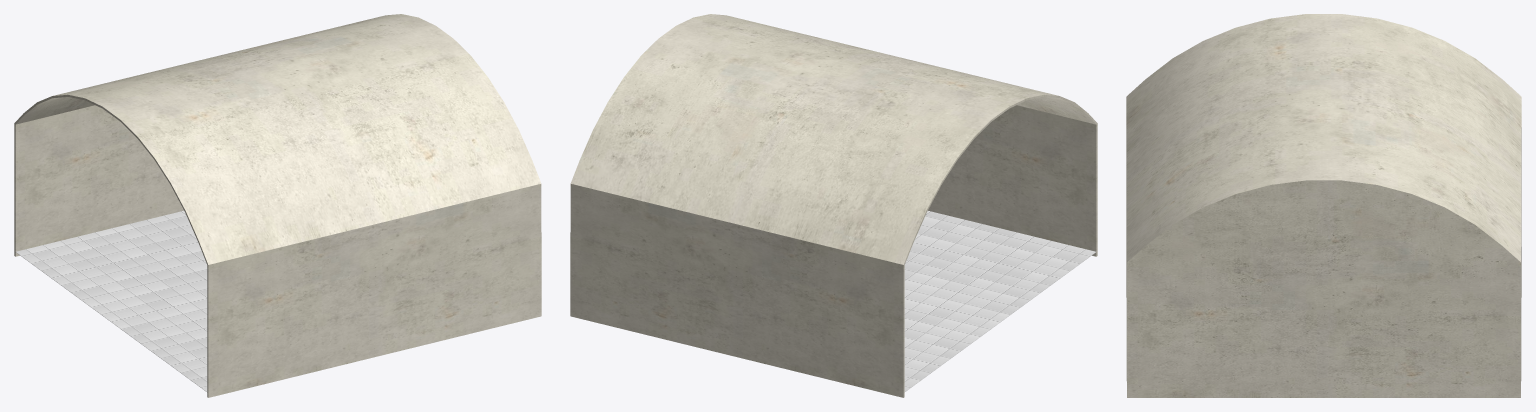
File: factory.fbx
The picture shows the model from 3 angles, left to right: view 1: azimuth 30°, elevation 25°; view 2: azimuth 150°, elevation 25°; view 3: azimuth 270°, elevation 25°; orthographic projection.
Visible parts, largest first — view 1: Plane.037, Plane.036; view 2: Plane.037, Plane.036; view 3: Plane.037.
Part boxes in pixels (bbox=[...]): Plane.037: bbox=[14, 14, 541, 397]; Plane.036: bbox=[16, 211, 207, 391]; Plane.037: bbox=[570, 14, 1097, 397]; Plane.036: bbox=[904, 211, 1095, 391]; Plane.037: bbox=[1126, 14, 1521, 397].
Size of the model in its own units: 1218 by 747 by 1227.
